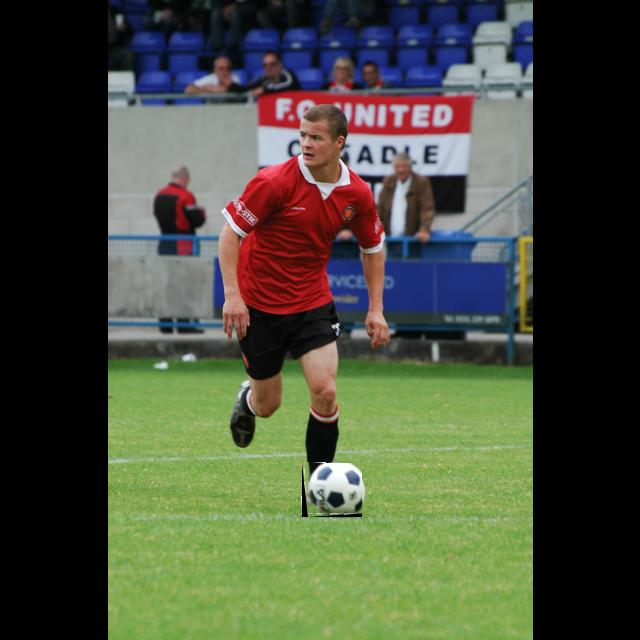Football: (302, 463, 362, 517)
